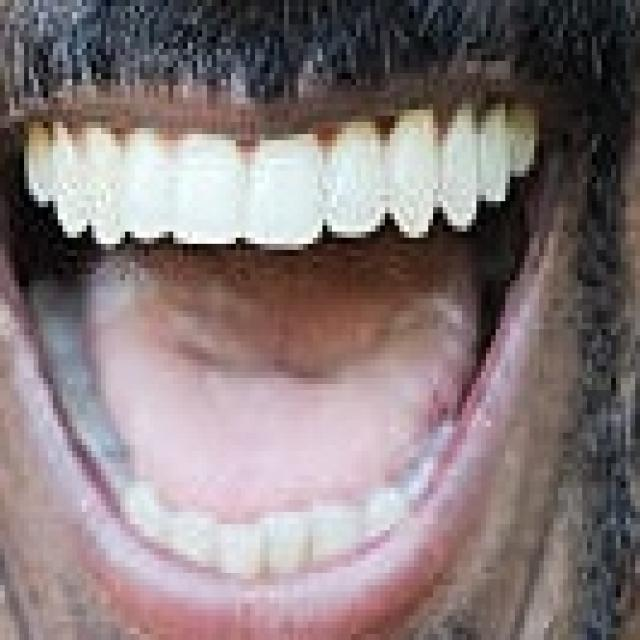open-mouth: (0, 61, 587, 634)
